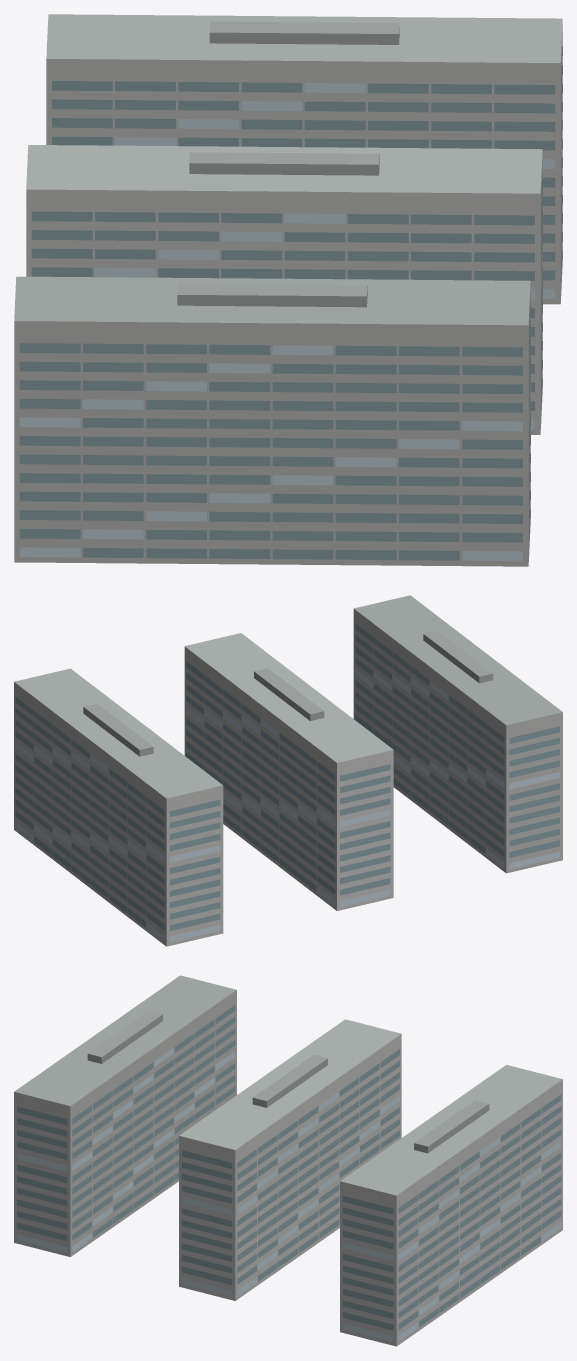
File: apt-a15010305.glb
3 views of the same model, one above another, from view 1: azimuth 30°, elevation 25°; view 2: azimuth 150°, elevation 25°; view 3: azimuth 270°, elevation 25° (orthographic). The views are drawn at different scales.
Visible parts, largest first — view 1: apt-a15010305; view 2: apt-a15010305; view 3: apt-a15010305.
Boxes of the visible parts, x1,y1,x2,y2 form: apt-a15010305: (14,14,562,566); apt-a15010305: (14,595,562,946); apt-a15010305: (14,975,562,1346).
Bounding box in the file's own units: 124 × 41.43 × 131.
